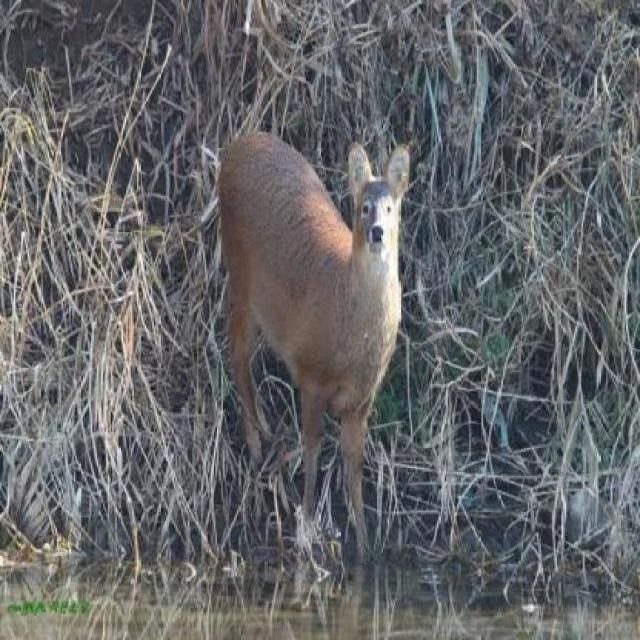deer: (214, 131, 413, 544)
